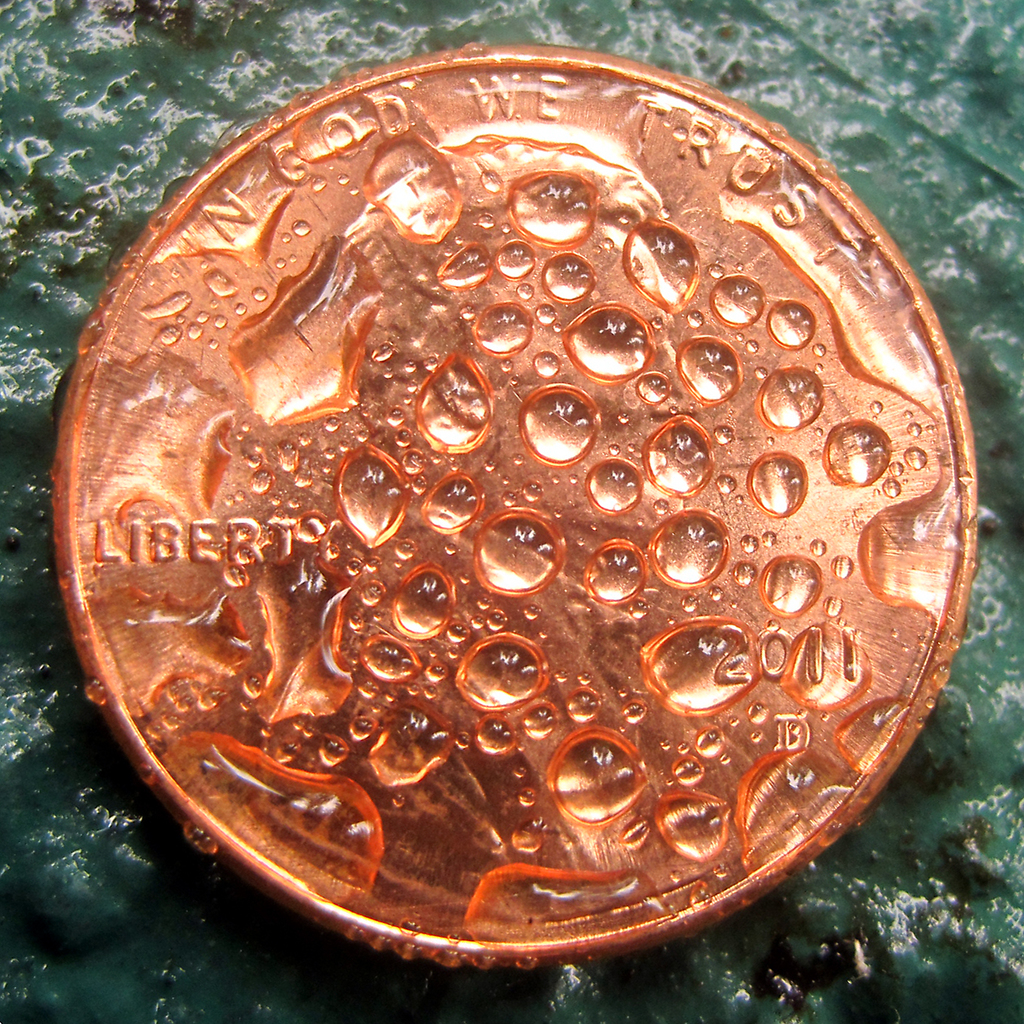Coin: (51, 44, 977, 966)
